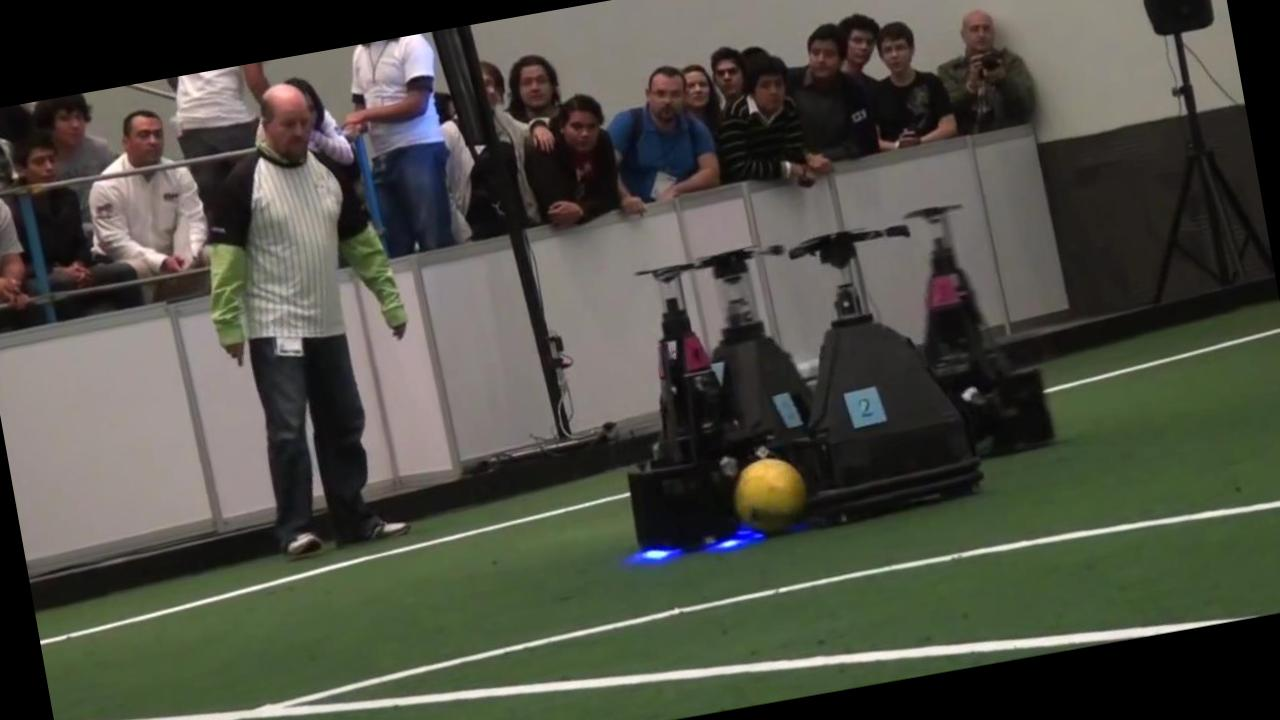ball: (733, 459, 806, 535)
person: (209, 83, 408, 558)
robot: (791, 230, 981, 520), (627, 264, 756, 548), (907, 205, 1054, 453), (704, 247, 812, 457)
